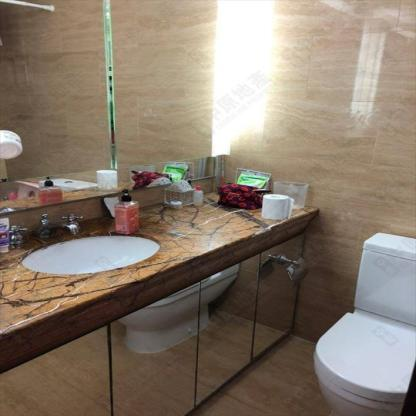Faucet: (13, 214, 88, 240)
Toilet: (311, 229, 415, 414)
Toilet Sink: (19, 234, 159, 276)
